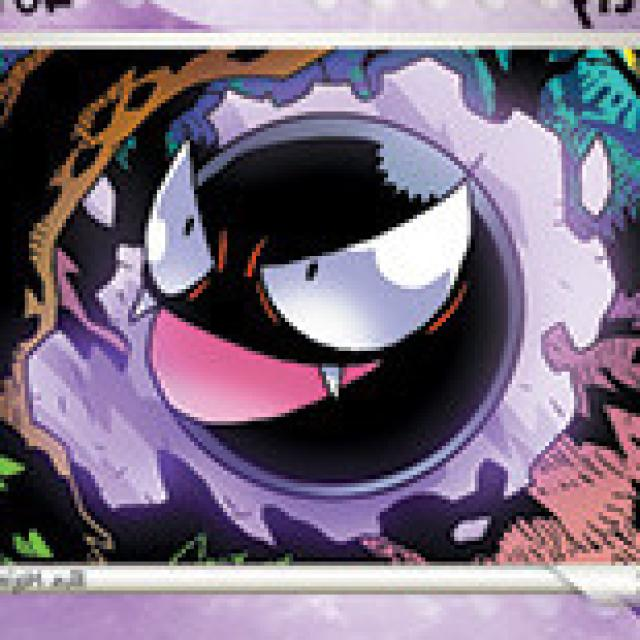Gastly: (100, 70, 595, 539)
